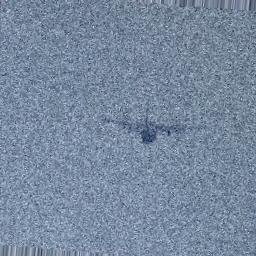Airplane: (102, 106, 205, 146)
